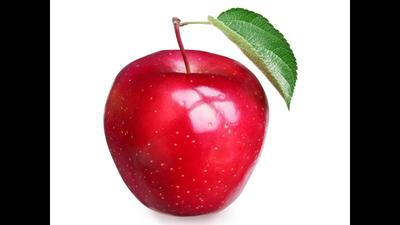apple: (0, 0, 400, 225)
